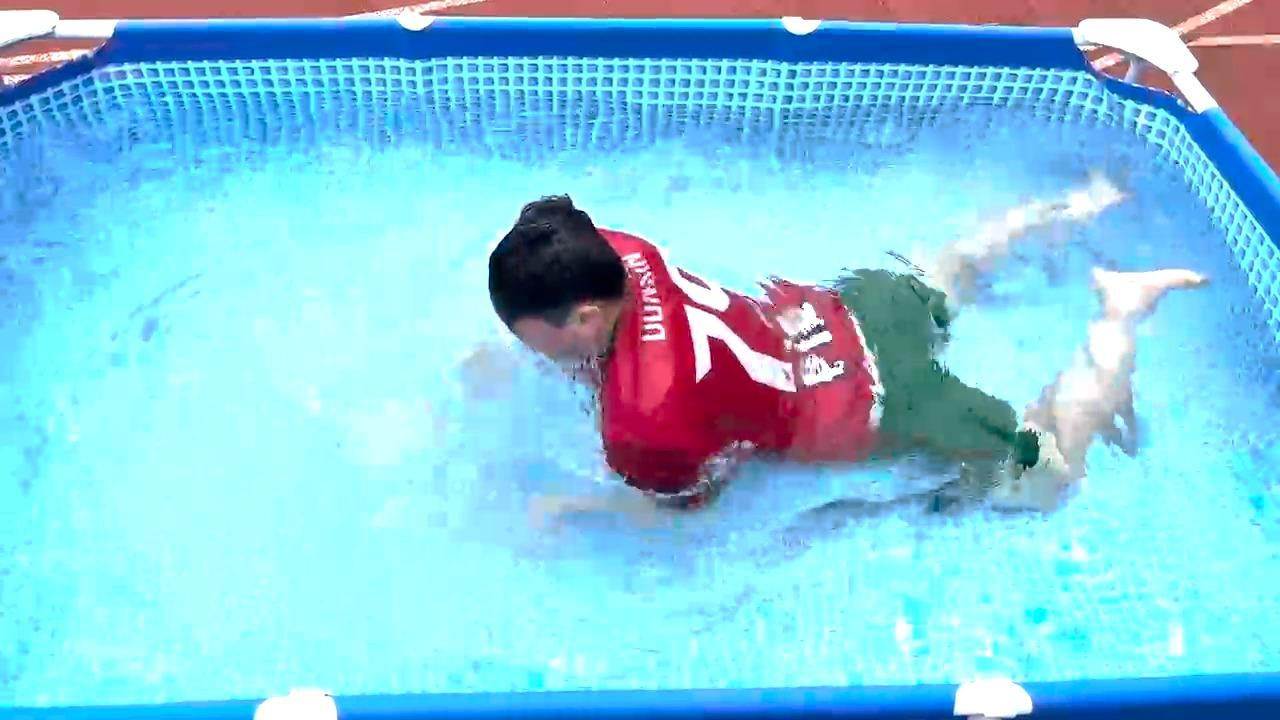Drowning: (392, 83, 1280, 588)
